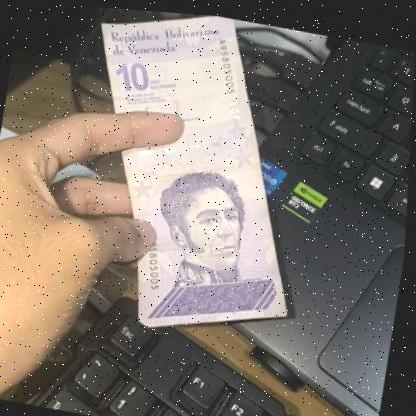ten-front-vef: (57, 4, 331, 347)
